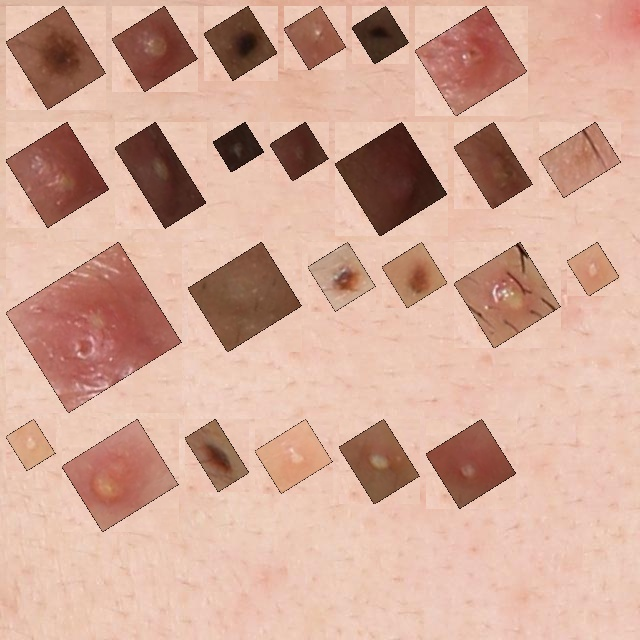hypertrophic_scar: (199, 253, 291, 341)
melasma: (550, 133, 610, 186)
nevus: (17, 17, 95, 98), (215, 17, 266, 69), (319, 253, 364, 300), (196, 430, 238, 480), (393, 253, 436, 297), (363, 17, 398, 53)
pustule: (17, 253, 170, 402), (73, 430, 167, 520), (346, 133, 436, 225), (426, 17, 516, 105), (465, 253, 549, 337), (17, 133, 98, 216), (126, 133, 195, 217), (437, 430, 505, 497), (123, 17, 186, 80), (465, 133, 522, 198), (350, 430, 408, 493), (266, 430, 321, 482), (295, 17, 335, 58), (281, 133, 317, 170), (578, 253, 608, 285), (224, 133, 253, 161), (17, 430, 44, 459)
